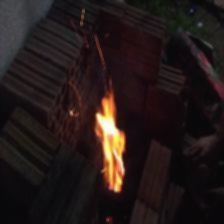fire: (75, 85, 144, 199)
